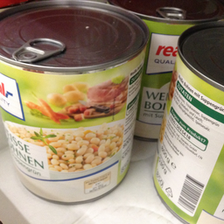beans: (1, 3, 159, 208)
